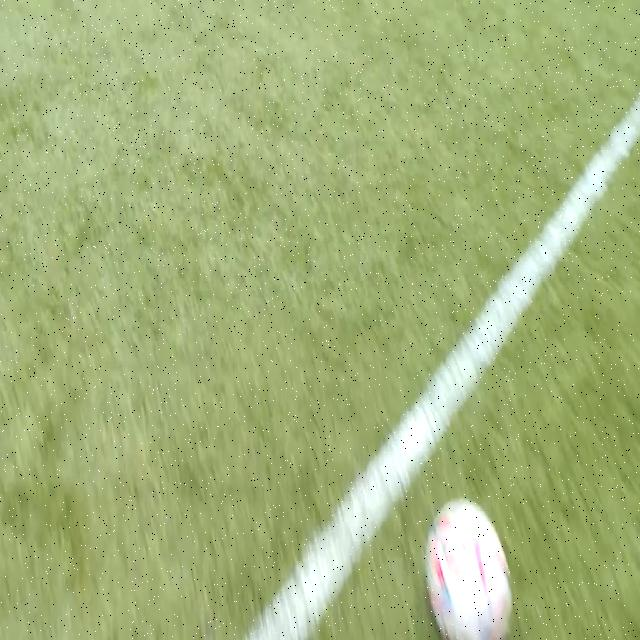ball: (426, 499, 512, 640)
